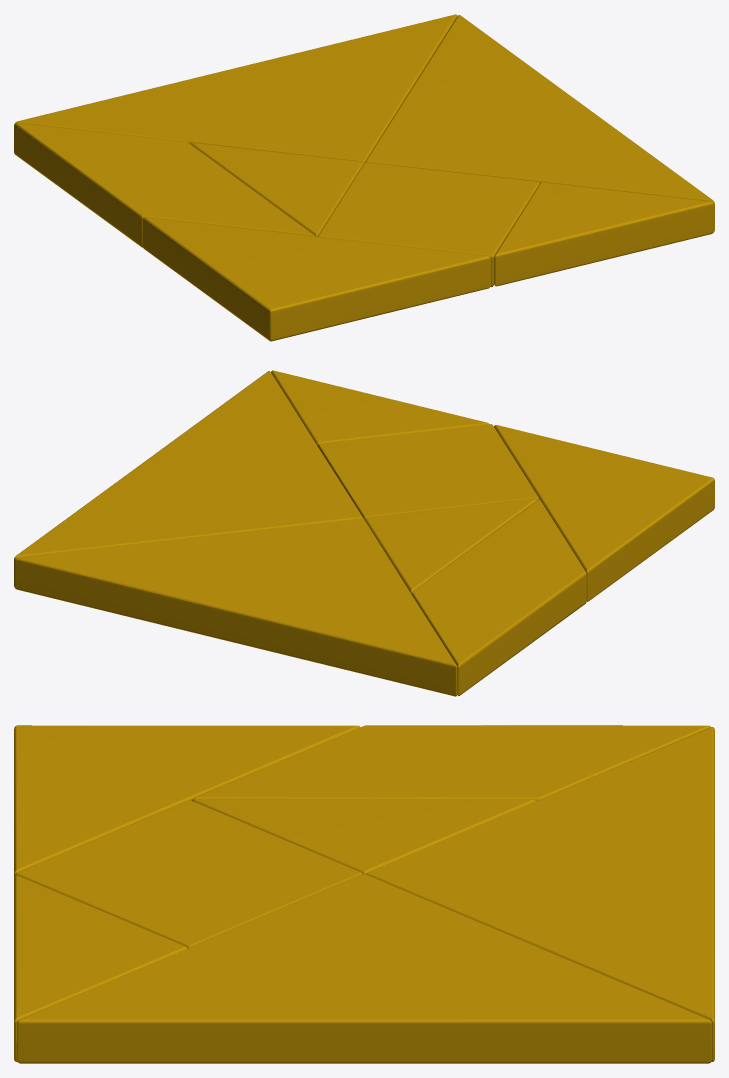
File: Tangram.fbx
3 views of the same model, one above another, from view 1: azimuth 30°, elevation 25°; view 2: azimuth 150°, elevation 25°; view 3: azimuth 270°, elevation 25° (orthographic). The views are drawn at different scales.
Parts seen in each view (by area): view 1: TriangleLargeA, TriangleLargeB, TriangleMedium, Parallelogram, Square, TriangleSmallA, TriangleSmallB; view 2: TriangleLargeA, TriangleLargeB, TriangleMedium, Parallelogram, Square, TriangleSmallB, TriangleSmallA; view 3: TriangleLargeB, TriangleLargeA, Parallelogram, TriangleMedium, Square, TriangleSmallB, TriangleSmallA.
Boxes of the visible parts, x1,y1,x2,y2 form: TriangleLargeA: (15, 14, 457, 163); TriangleLargeB: (365, 15, 714, 231); TriangleMedium: (143, 217, 490, 341); Parallelogram: (14, 123, 315, 247); Square: (318, 162, 539, 287); TriangleSmallA: (494, 182, 714, 286); TriangleSmallB: (190, 143, 363, 236); TriangleLargeA: (14, 518, 457, 696); TriangleLargeB: (14, 371, 362, 586); TriangleMedium: (494, 425, 714, 601); Parallelogram: (411, 499, 586, 695); Square: (317, 424, 539, 519); TriangleSmallB: (364, 498, 537, 593); TriangleSmallA: (271, 370, 489, 445); TriangleLargeB: (16, 874, 712, 1063); TriangleLargeA: (366, 727, 714, 1061); Parallelogram: (192, 725, 710, 801); TriangleMedium: (14, 725, 360, 877); Square: (15, 800, 362, 948); TriangleSmallB: (193, 799, 535, 874); TriangleSmallA: (14, 875, 187, 1061).
Bounding box in the file's own units: 1 × 0.0697 × 1.
